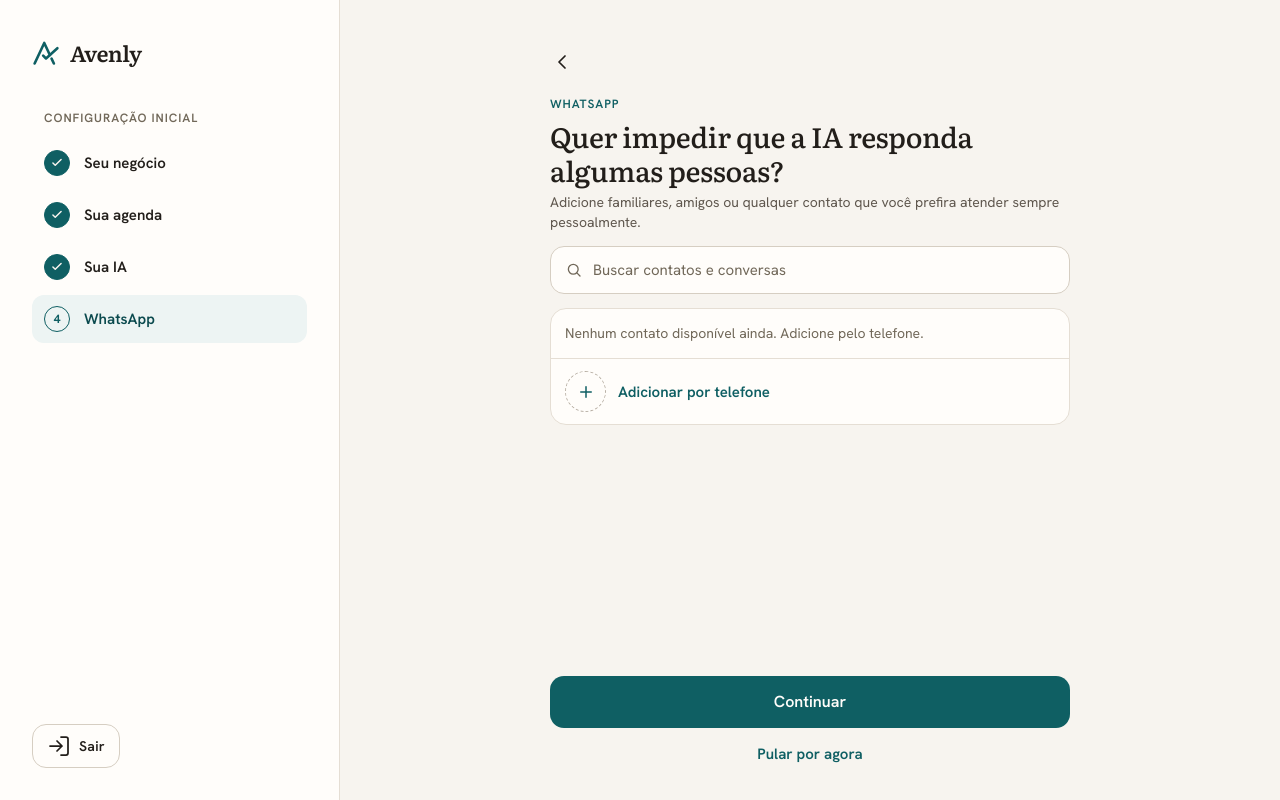
Test: o encadeamento real de boas-vindas a endereco até validação › contatos-ignorados: marcar por telefone cria o contato e mostra a confirmação só após a resposta
Click the button "Adicionar por telefone" at [586, 392], box [551,358,1069,424]
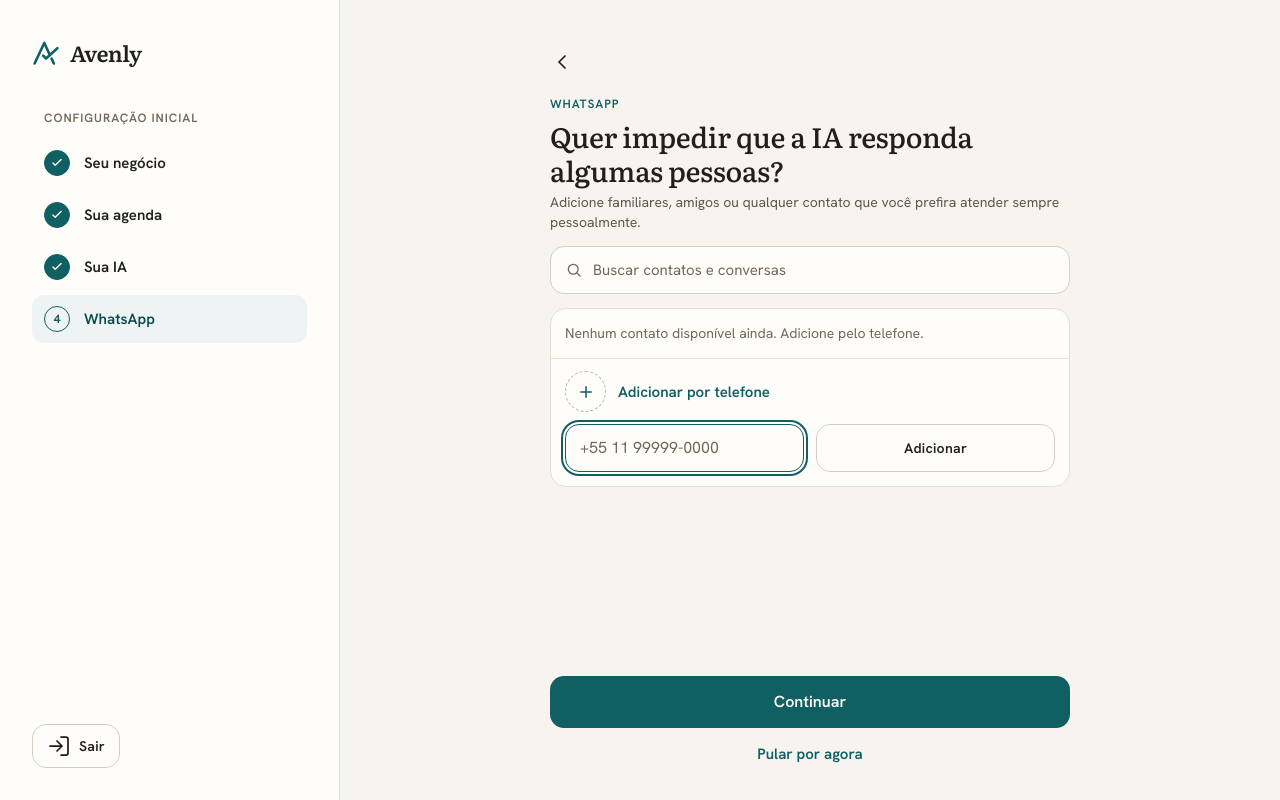
Type "+55 11 97777-0000" into the field with placeholder "+55 11 99999-0000" at [684, 448], box [565,424,804,472]
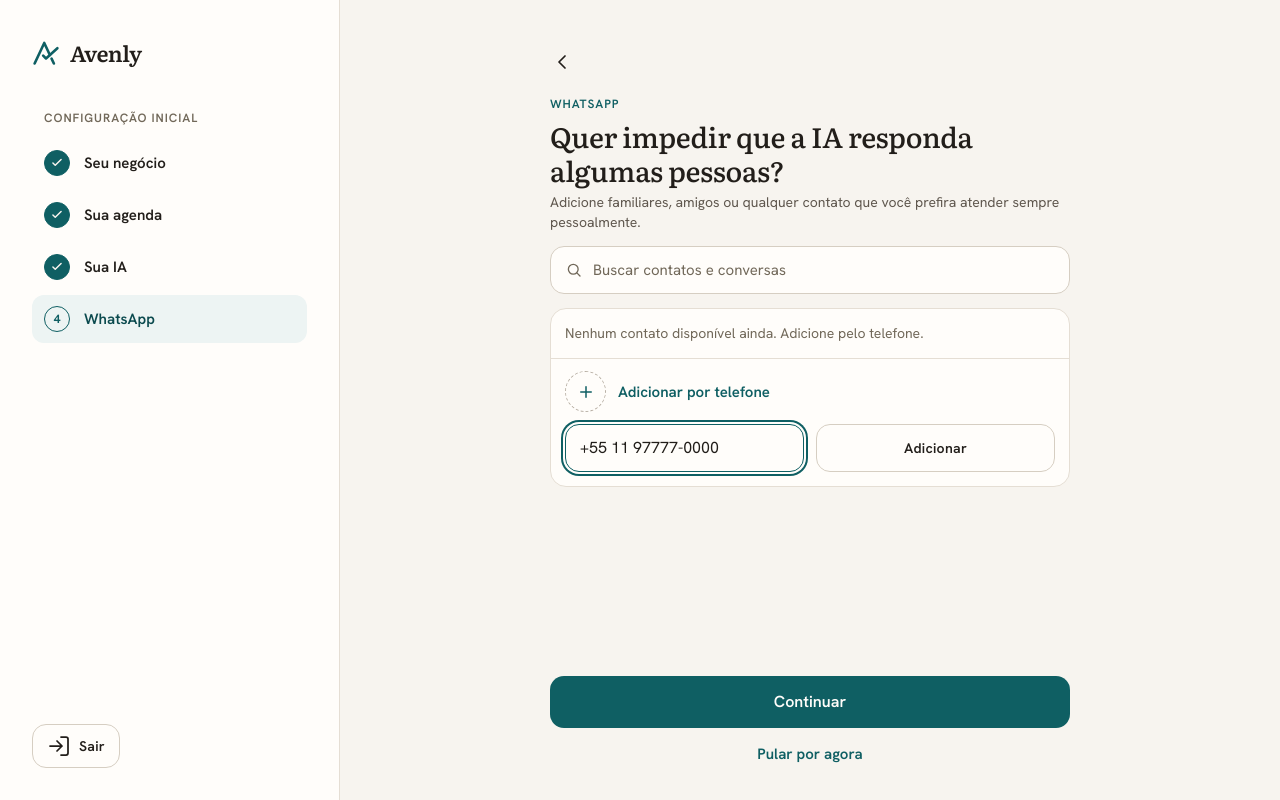
Click the button "Adicionar" at [936, 448], box [816,424,1055,472]
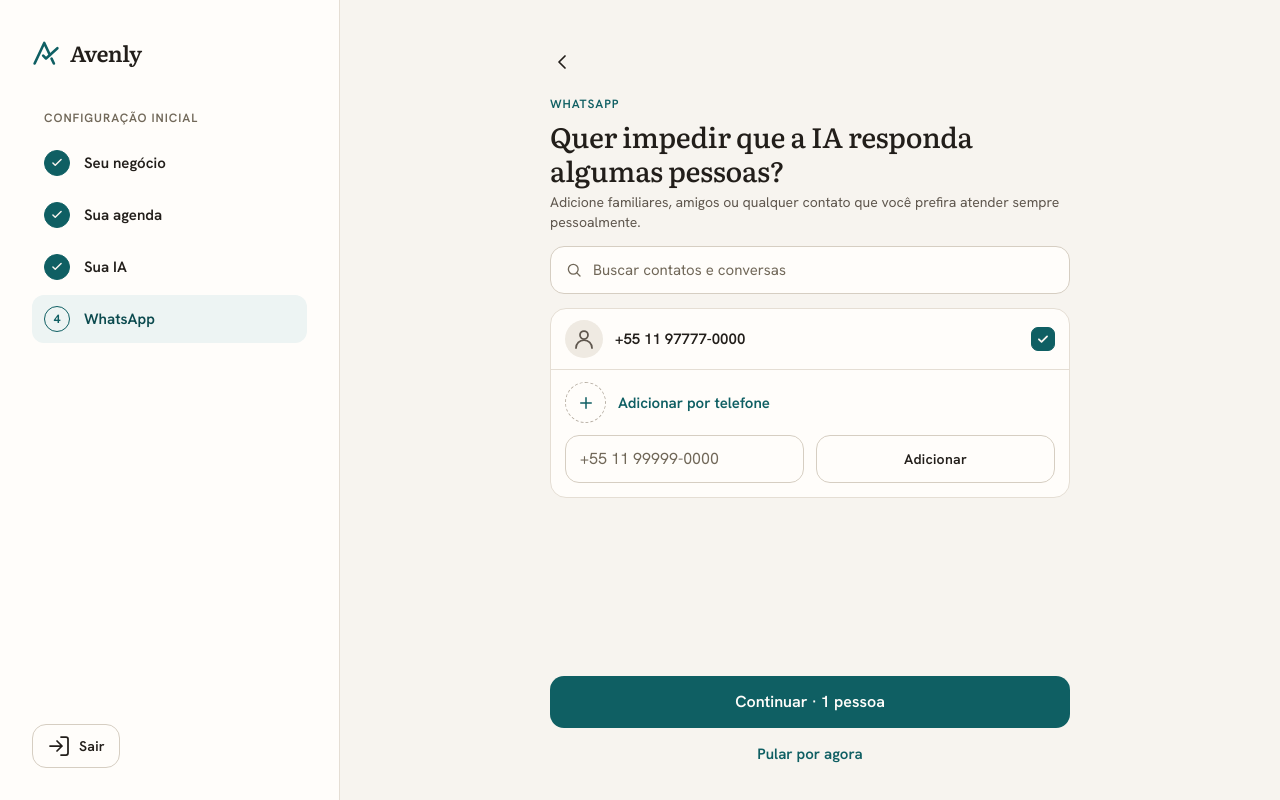
Now the checkbox labelled "+55 11 97777-0000" is checked, box [551,309,1069,369]
